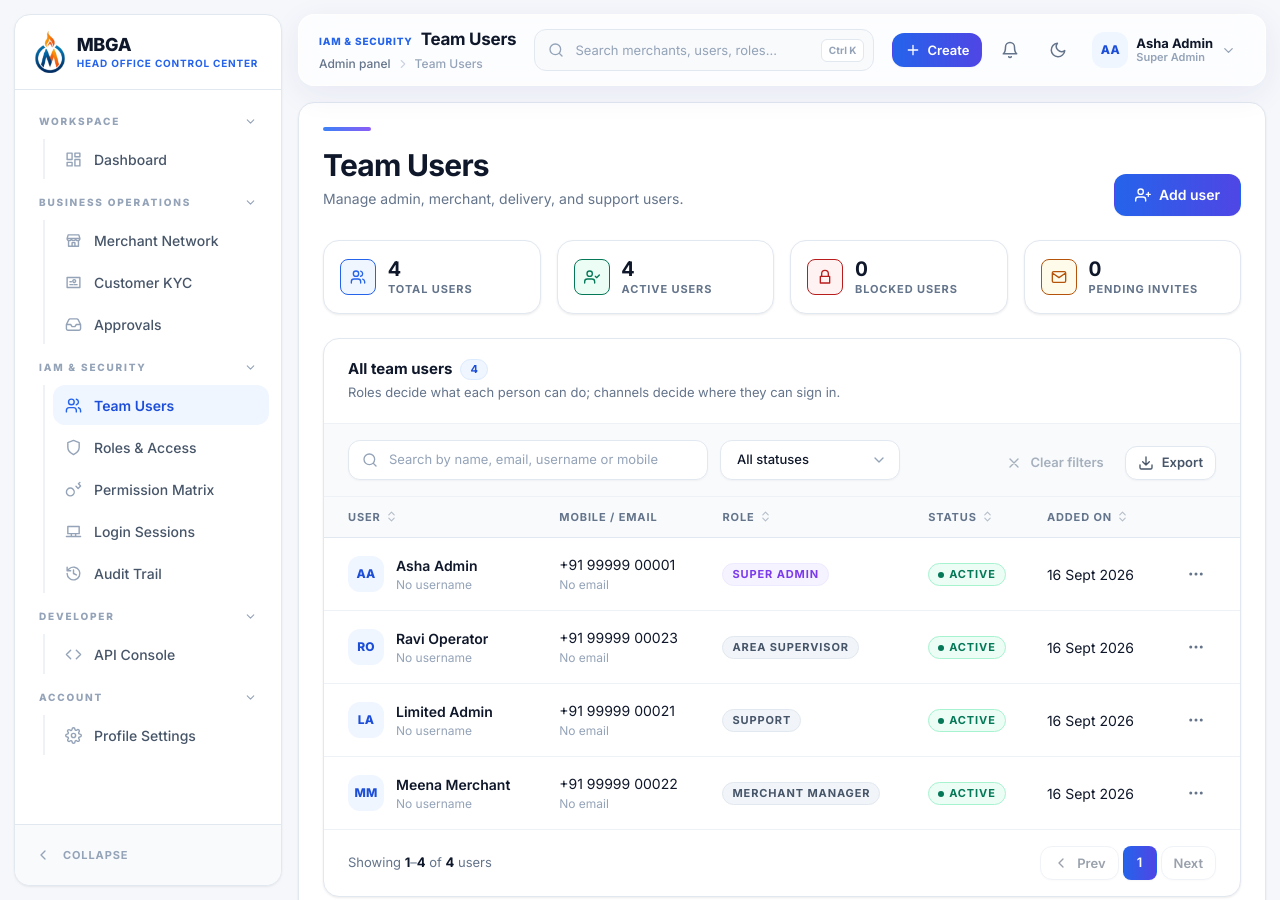
Test case: Users page › shows a user's roles and access
The width and height of the screenshot is (1280, 900).
Click the link "Ravi Operator" at [442, 638], box [396,628,488,648]
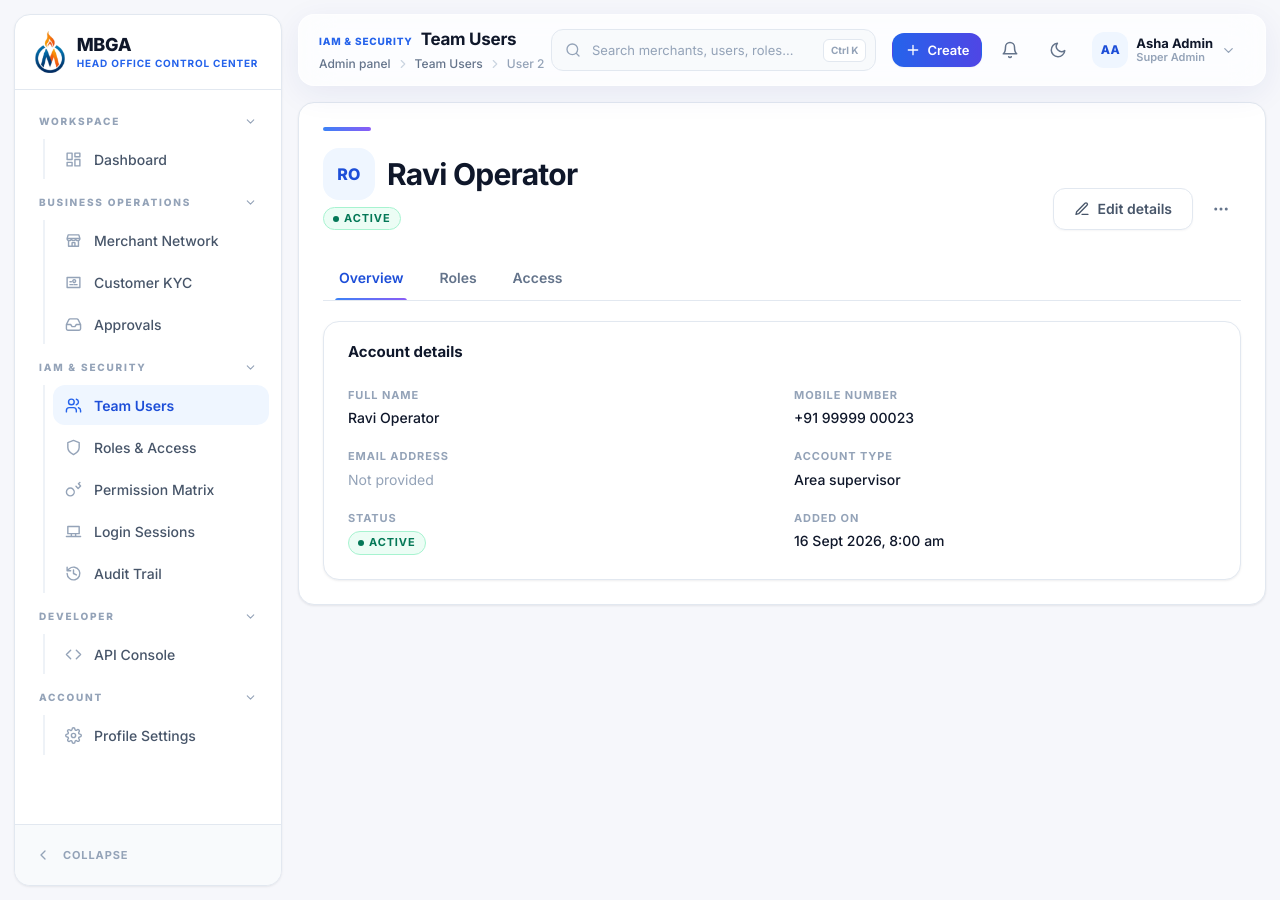
Now the heading "RO Ravi Operator" is shown, box [323,148,577,200]
Click the tab "Roles" at [458, 277], box [424,254,493,300]
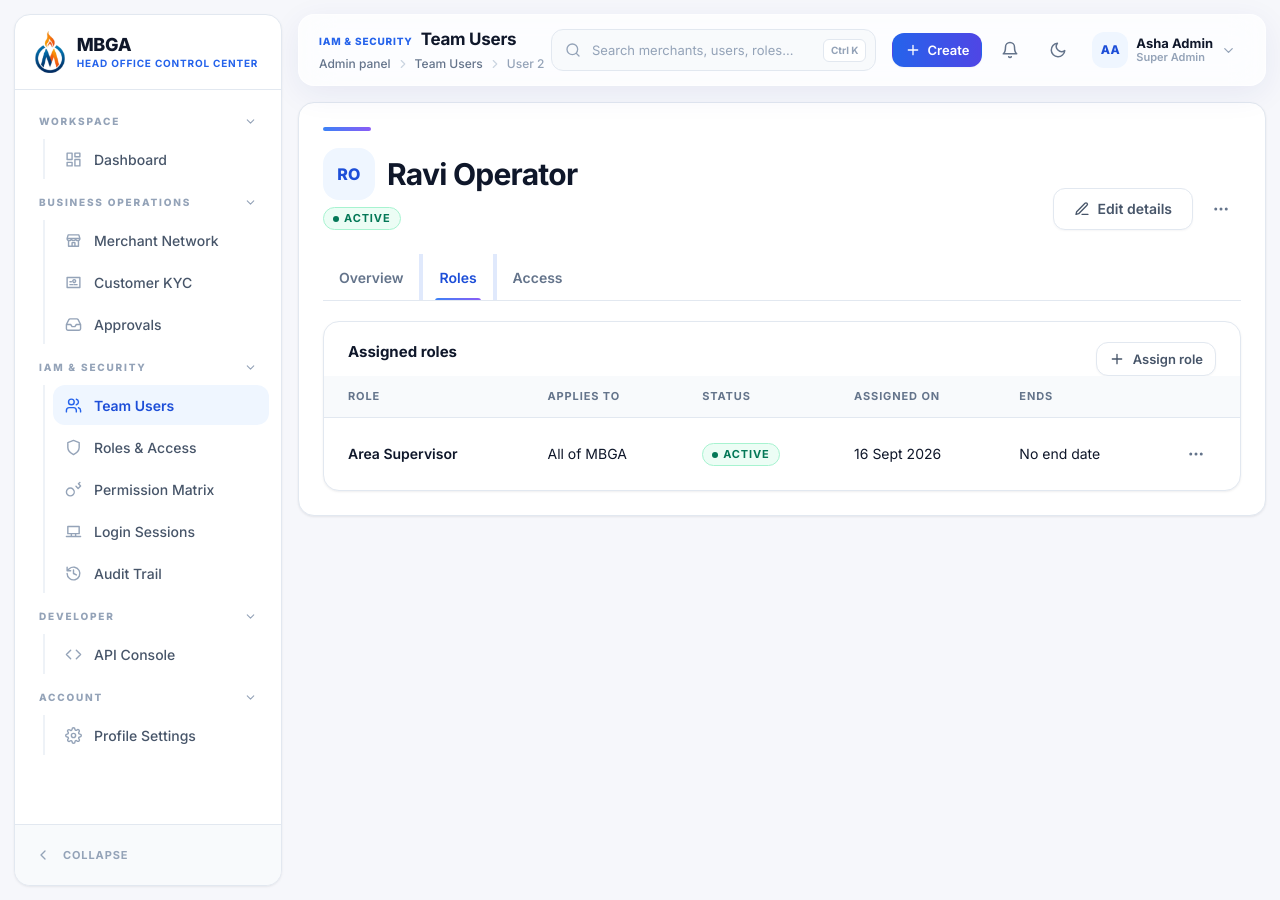
Expected: the link "Area Supervisor" is shown, [348,445,458,462]
Click the tab "Access" at [538, 277], box [497,254,579,300]
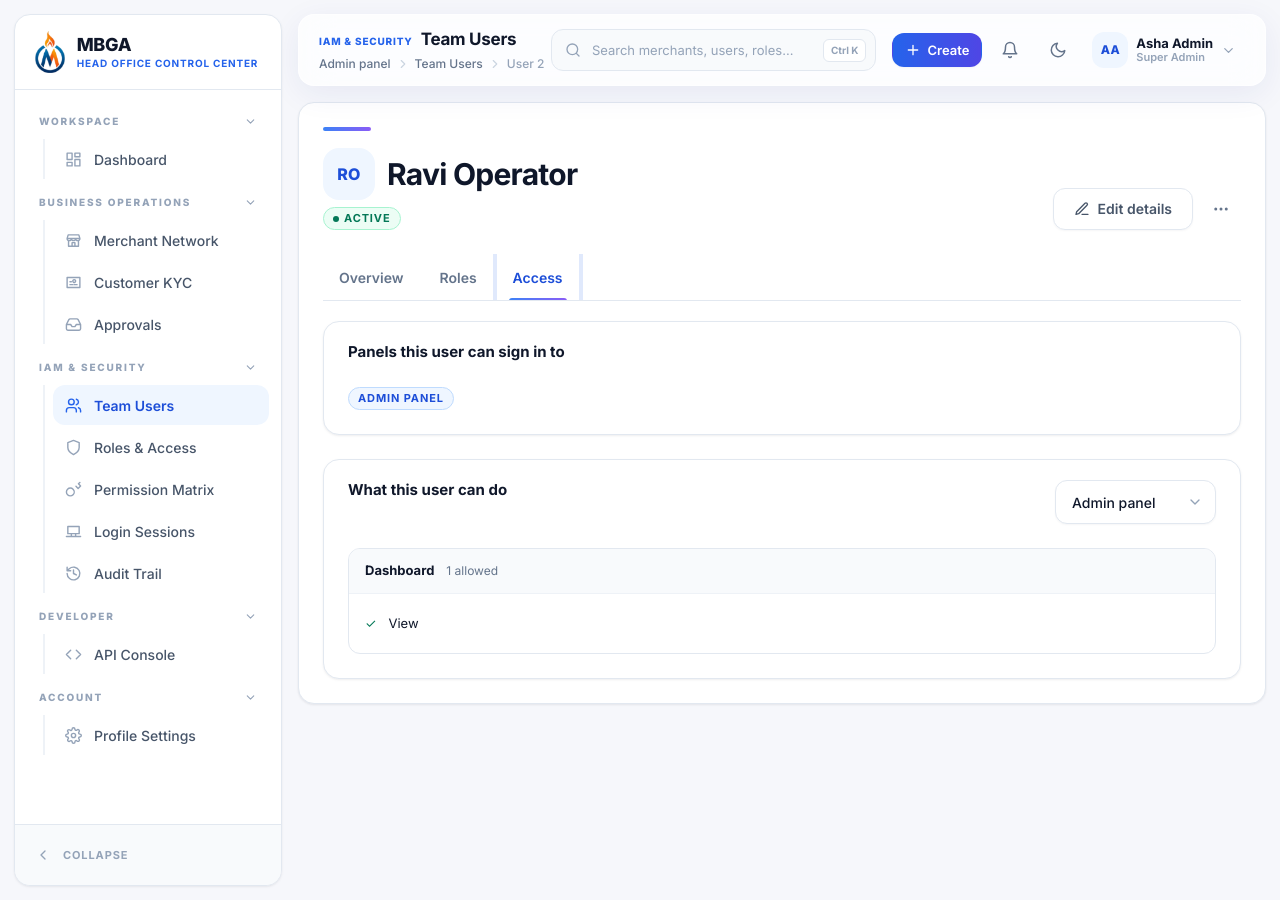
Now the text "Admin panel" is shown, box [348,387,454,410]
Now the element "Dashboard" shows "View", box [388,614,419,630]
